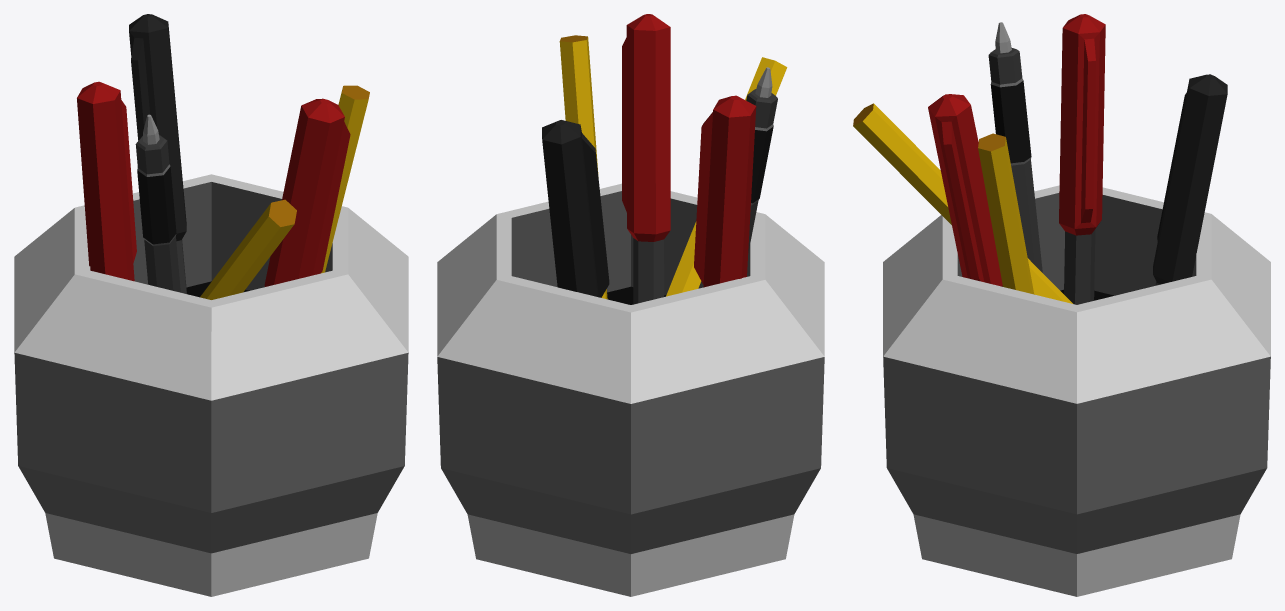
Rendered from PenHolderV2Filled.fbx.
The picture shows the model from 3 angles, left to right: view 1: azimuth 30°, elevation 25°; view 2: azimuth 150°, elevation 25°; view 3: azimuth 270°, elevation 25°; orthographic projection.
Visible parts, largest first — view 1: PenHolderV2Filled; view 2: PenHolderV2Filled; view 3: PenHolderV2Filled.
Part boxes in pixels (bbox=[...]): PenHolderV2Filled: bbox=[14, 14, 408, 596]; PenHolderV2Filled: bbox=[437, 14, 824, 596]; PenHolderV2Filled: bbox=[853, 14, 1270, 596].
Bounding box in the file's own units: 7.6 × 8.48 × 7.09.
